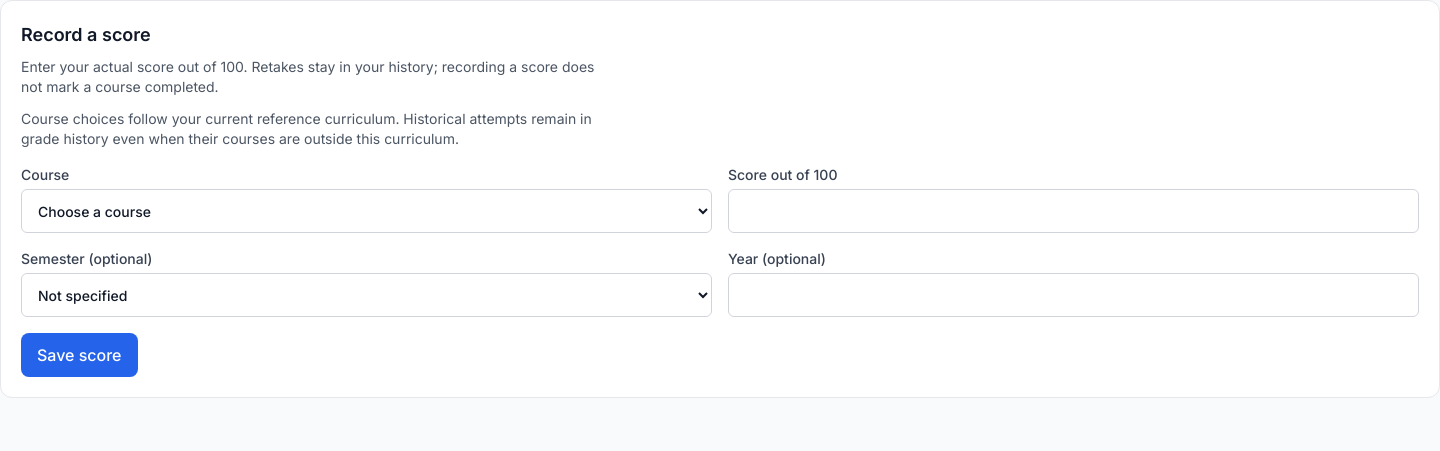
Test: numeric grade entry › retains the confirmed owner and assigned curriculum in the durable score request
Step 1. Select "MA001IU — Calculus 1" in the dropdown labelled "Course" → (366, 211), box [21, 189, 712, 233]
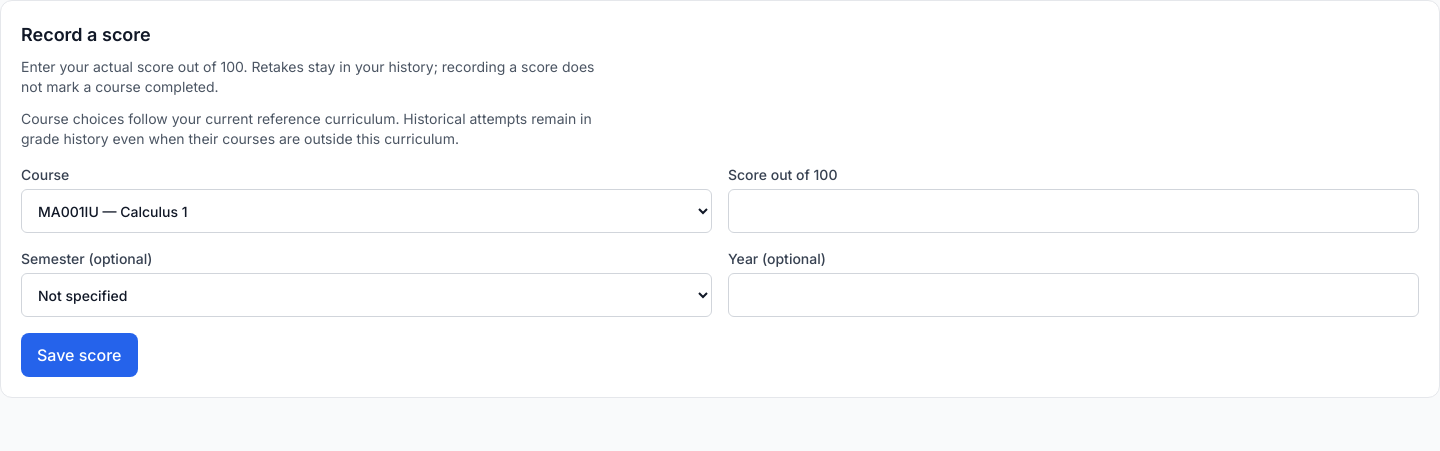
Step 2. Type "81" into the number field labelled "Score out of 100" → (1074, 211), box [728, 189, 1419, 233]
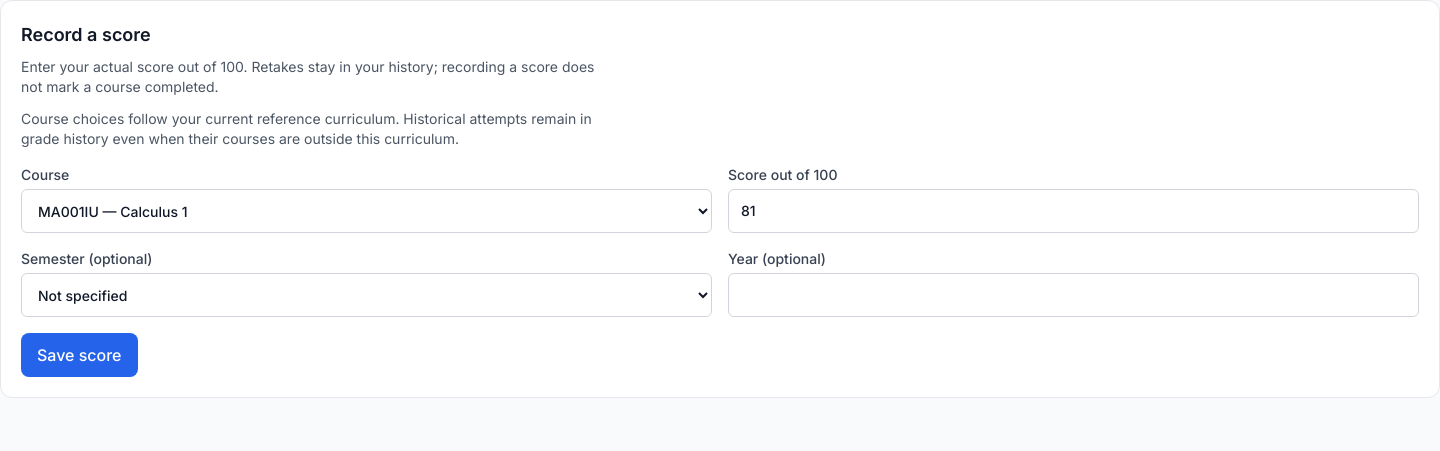
Step 3. Click the button "Save score" → (79, 355), box [21, 333, 138, 377]
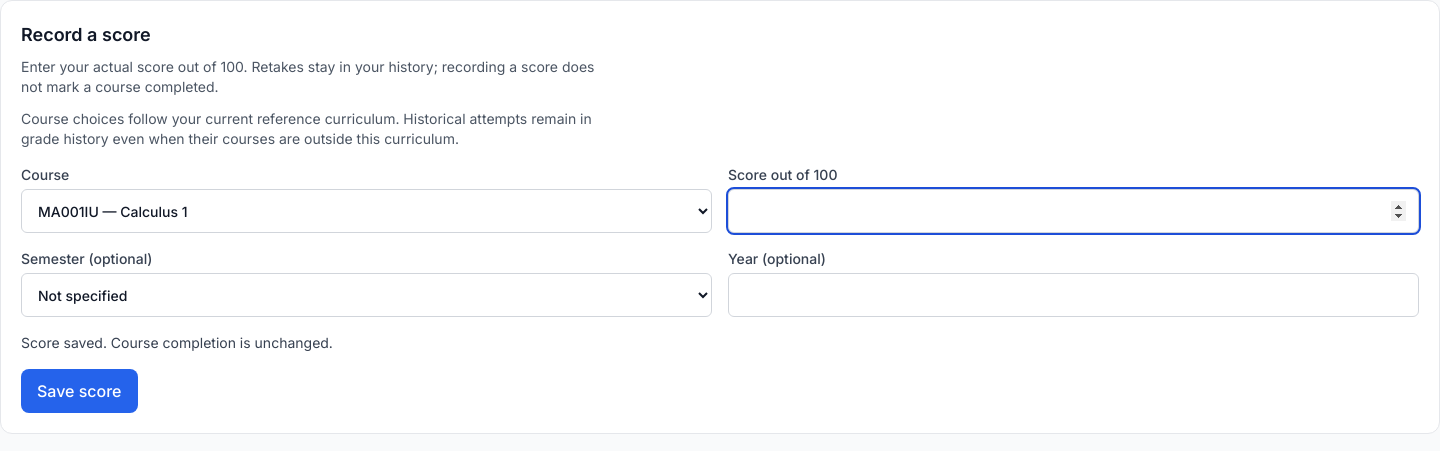
Expected: the text "Score saved. Course completion is unchanged." is shown, [21, 334, 333, 351]
